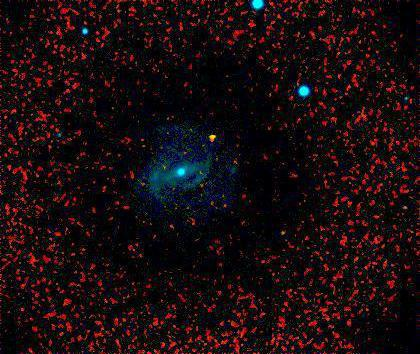star: (199, 120, 229, 150)
